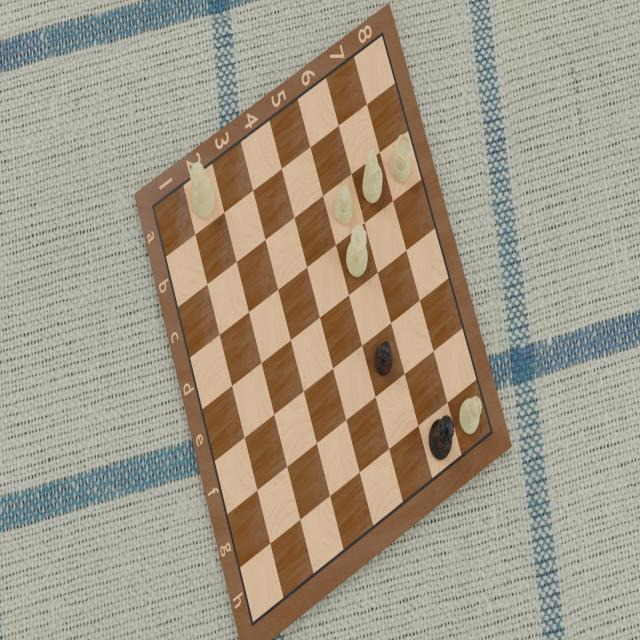black-king: (427, 410, 457, 466)
black-pawn: (373, 336, 395, 379)
white-bishop: (458, 390, 486, 438)
white-king: (187, 160, 217, 223)
white-knight: (360, 147, 384, 205)
white-pawn: (331, 182, 356, 228)
white-queen: (344, 220, 372, 280)
white-rook: (389, 133, 414, 187)
